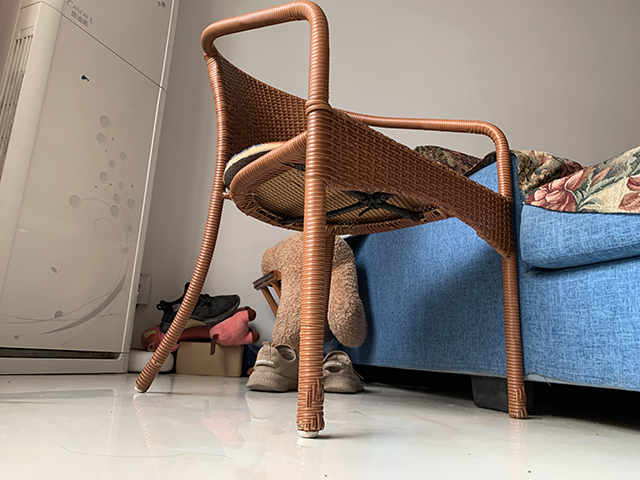sofa: (324, 144, 640, 420)
stool: (132, 1, 530, 441)
